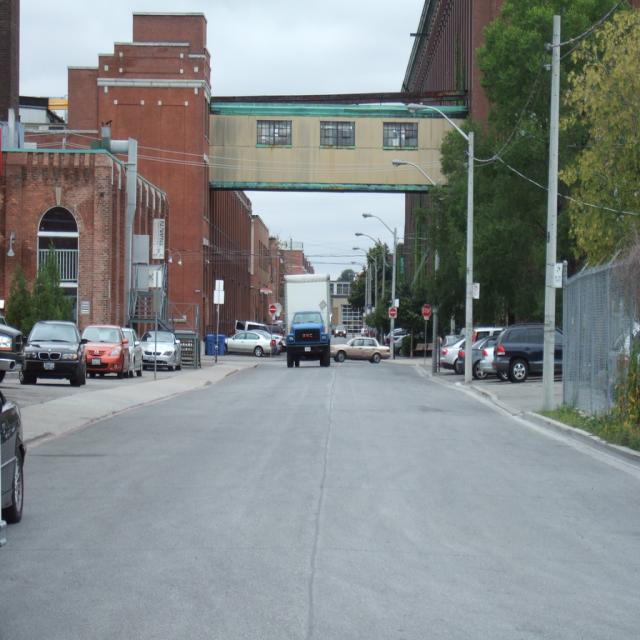car: (4, 320, 80, 390), (226, 319, 283, 356), (330, 334, 388, 368)
